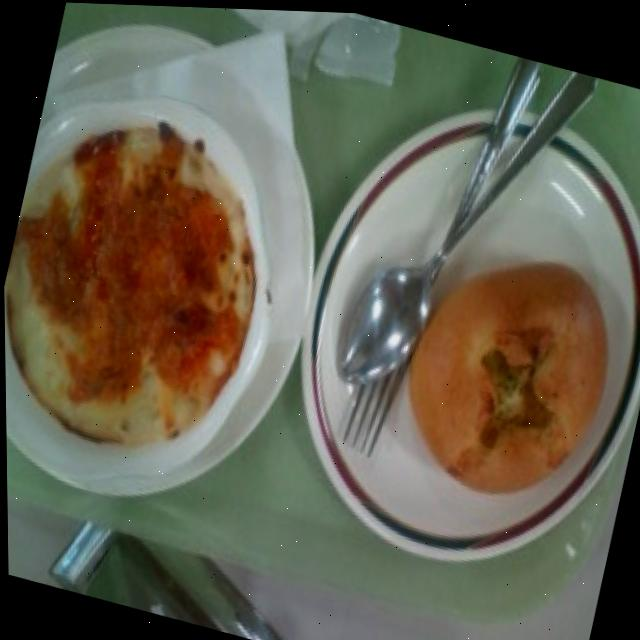三明治: (374, 205, 640, 539)
